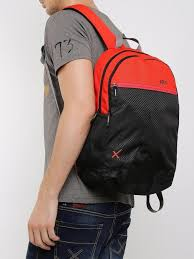backpack: (41, 4, 179, 212)
